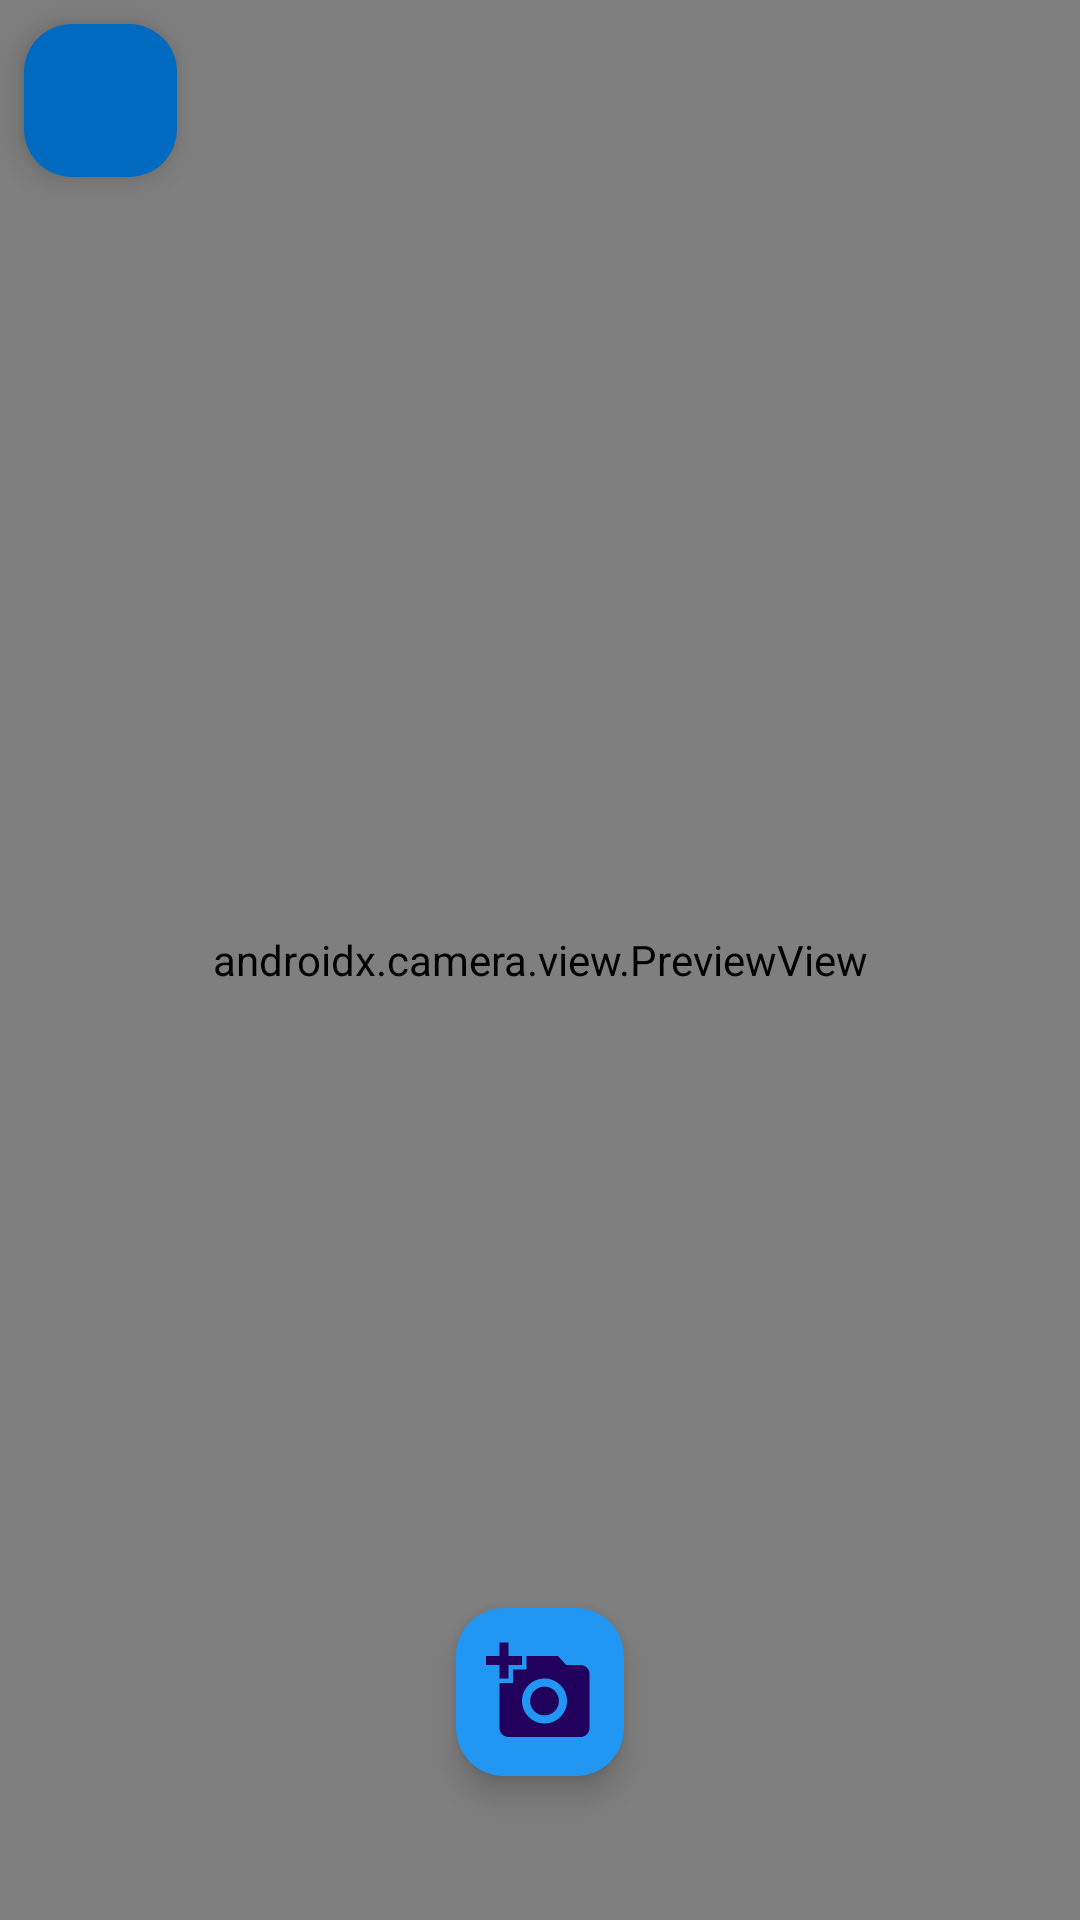

Where icons sit on this 1080*1920 app screen, as (x1, y1, x2, y2):
button to take picture: (456, 1608, 624, 1776)
